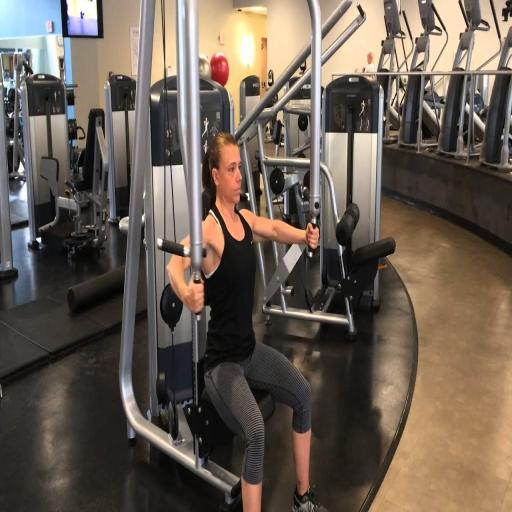exercise: (165, 130, 328, 510)
